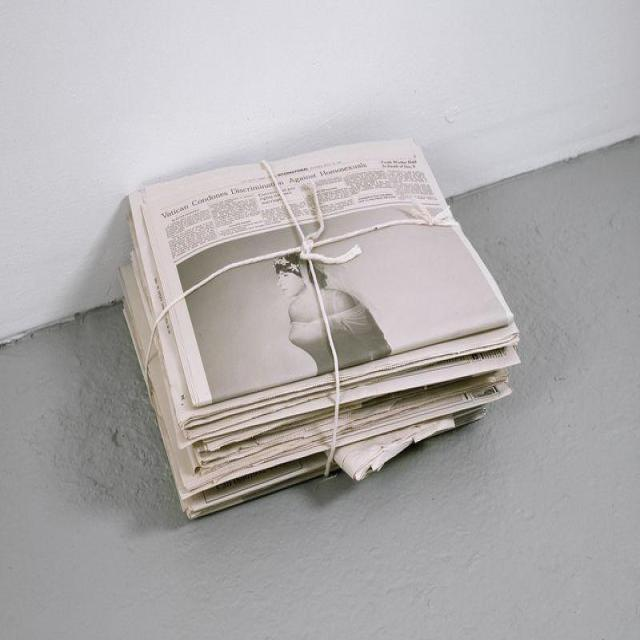paper: (116, 140, 522, 523)
